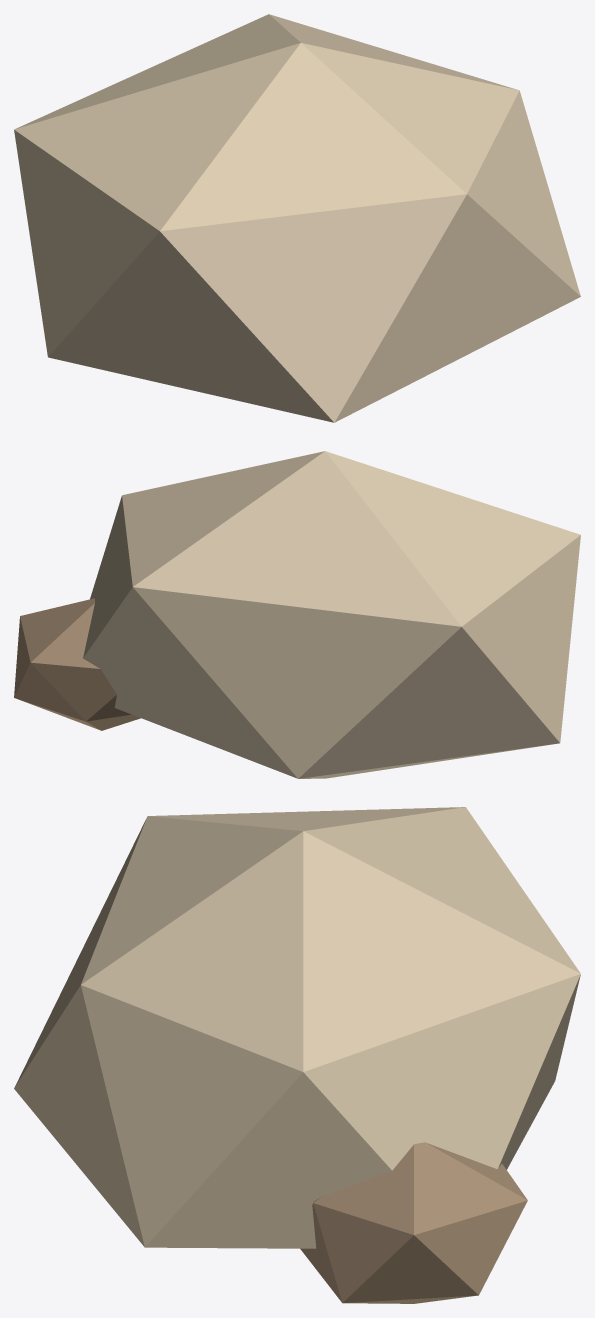
File: ENV_Rock_A.glb
3 views of the same model, one above another, from view 1: azimuth 30°, elevation 25°; view 2: azimuth 150°, elevation 25°; view 3: azimuth 270°, elevation 25° (orthographic). The views are drawn at different scales.
Visible parts, largest first — view 1: Rock; view 2: Rock, Chip; view 3: Rock, Chip.
Part boxes in pixels (x1=…): Rock: x1=14, y1=14, x2=580, y2=422; Rock: x1=83, y1=451, x2=580, y2=778; Chip: x1=14, y1=598, x2=140, y2=730; Rock: x1=14, y1=807, x2=580, y2=1248; Chip: x1=300, y1=1142, x2=527, y2=1303.
Size of the model in its own units: 1.94 by 1.22 by 1.54.
